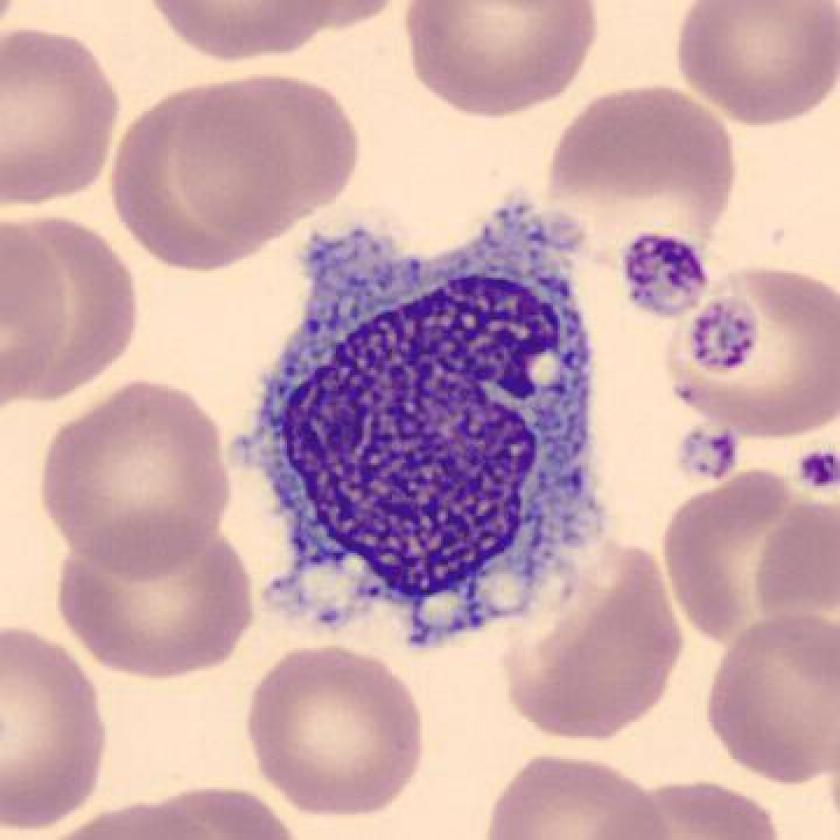monocyte: (218, 195, 626, 672)
